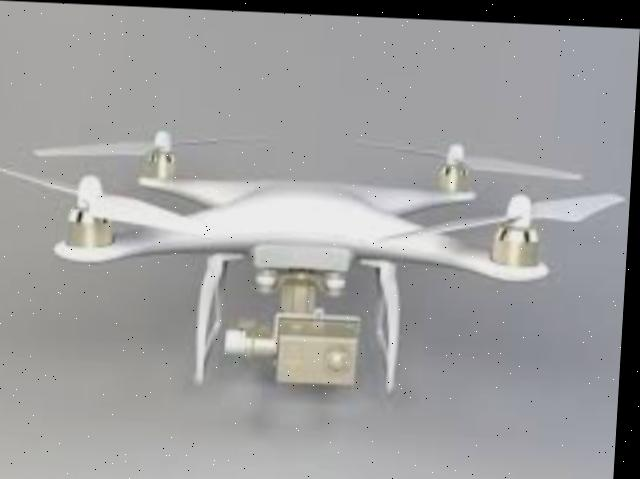drone: (0, 107, 631, 405)
